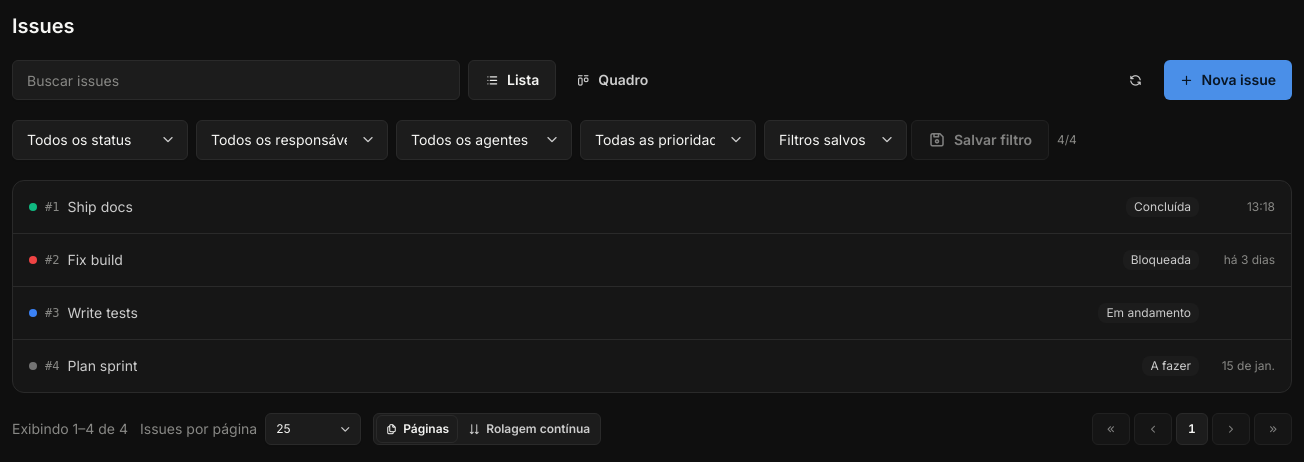
Scenario: WorkView issue list and board › shows only the filtered column and an empty message on the board
This screenshot has width=1304, height=462.
Expected: the button "#1 Ship docs" is shown, x1=29 y1=193 x2=1114 y2=221
Click the button "Quadro" at (612, 80), box x1=560 y1=60 x2=664 y2=100
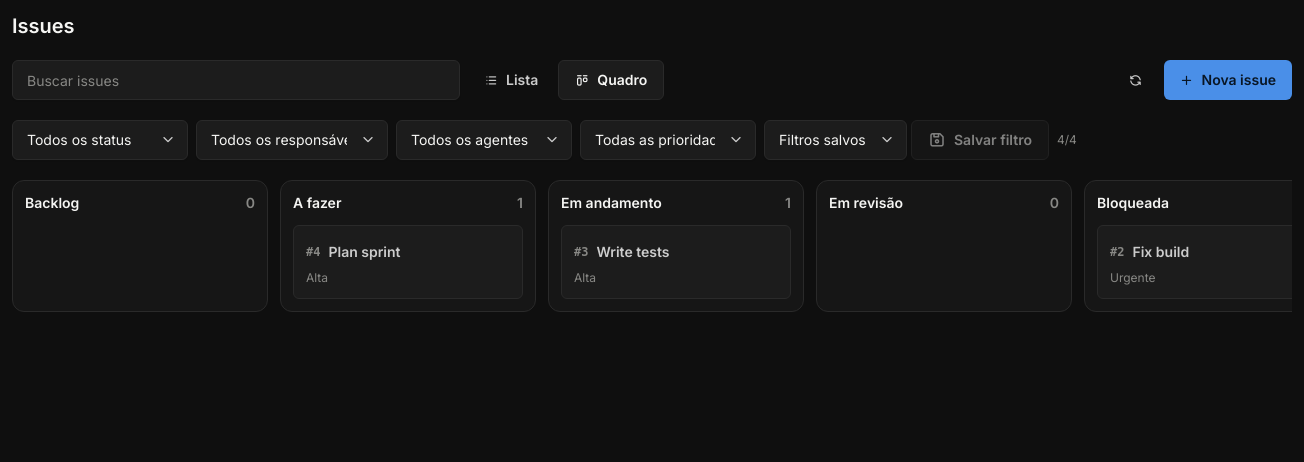
Select "Cancelada" in the dropdown named "Filtrar status" at (100, 140), box x1=12 y1=120 x2=188 y2=160
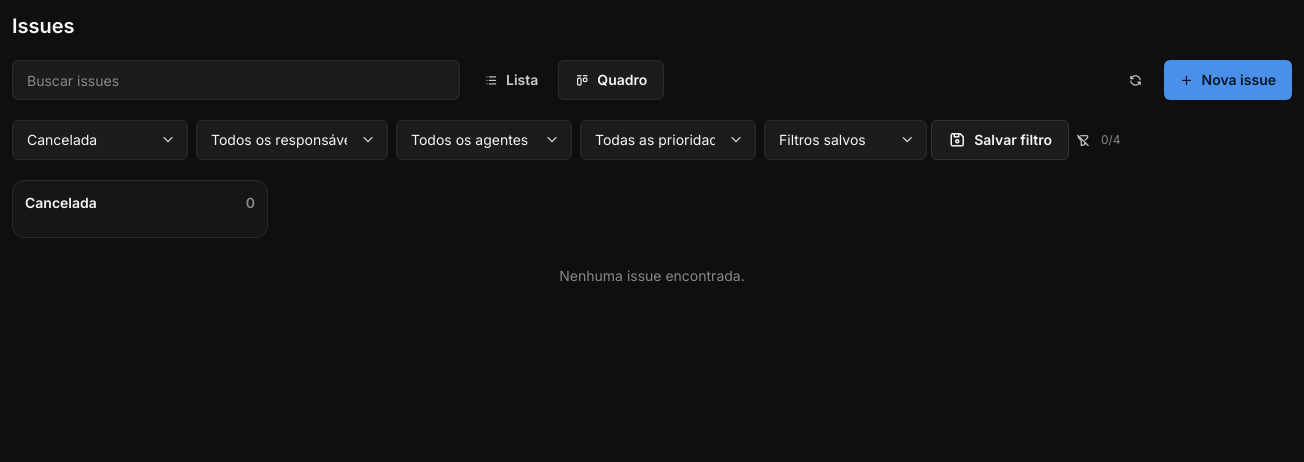
Expected: the text "Nenhuma issue encontrada." is shown, x1=559 y1=267 x2=745 y2=284
